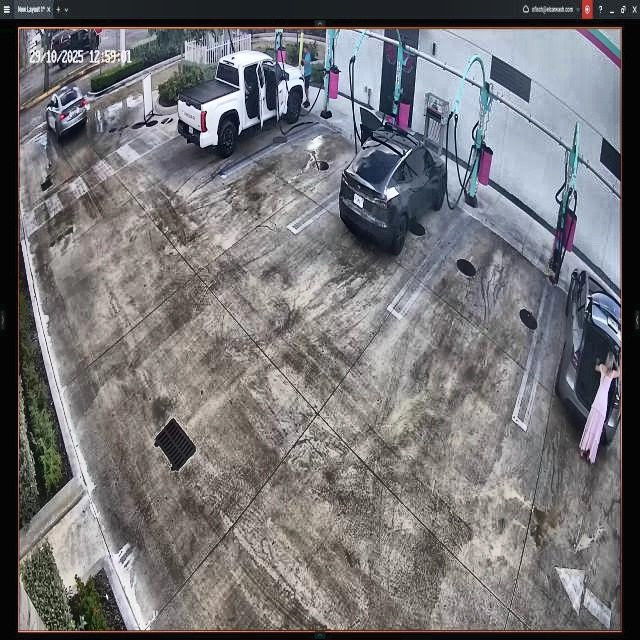Car: (339, 111, 448, 256), (178, 49, 306, 154)
